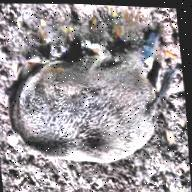boar: (0, 34, 181, 185)
